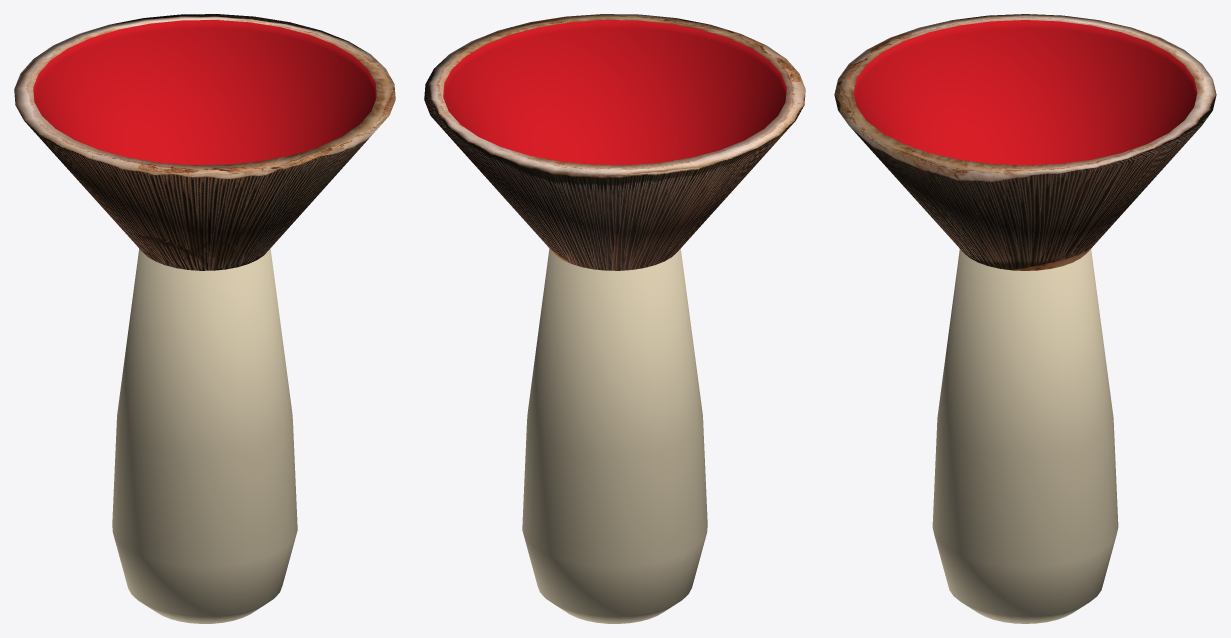
File: champi61.fbx
The picture shows the model from 3 angles, left to right: view 1: azimuth 30°, elevation 25°; view 2: azimuth 150°, elevation 25°; view 3: azimuth 270°, elevation 25°; orthographic projection.
Visible parts, largest first — view 1: Circle; view 2: Circle; view 3: Circle.
Boxes of the visible parts, box(x1,y1,x2,y2) form: Circle: box(14, 14, 395, 623); Circle: box(424, 14, 805, 623); Circle: box(834, 14, 1216, 623).
Size of the model in its own units: 115 by 168 by 115.
